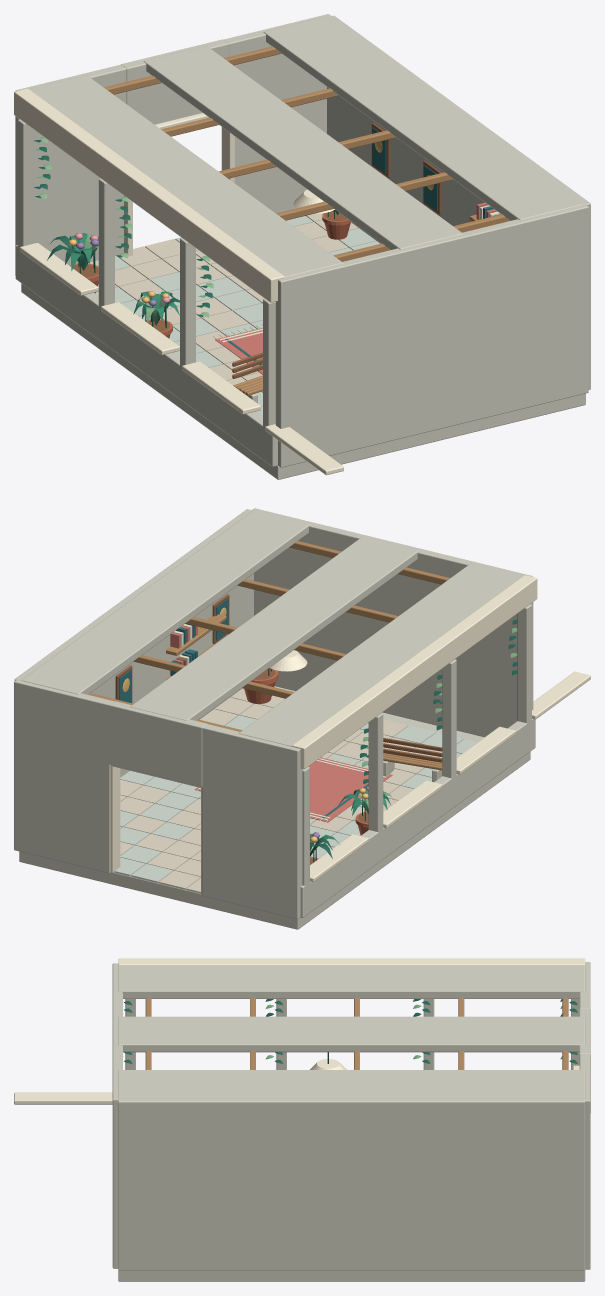
Rendered from office.glb.
The picture shows the model from 3 angles, top to bottom: view 1: azimuth 30°, elevation 25°; view 2: azimuth 150°, elevation 25°; view 3: azimuth 270°, elevation 25°; orthographic projection. The views are drawn at different scales.
Parts seen in each view (by area): view 1: office_architecture_limestone, office_architecture_ivory, office_paving_tile_warm, office_architecture_wood_light, office_paving_tile, office_foliage_leaf_dark, office_architecture_wood, office_detail_teal, office_paving_rug, office_foliage_leaf, office_foliage_leaf_light, office_detail_terracotta; view 2: office_architecture_limestone, office_architecture_ivory, office_paving_tile_warm, office_paving_tile, office_architecture_wood_light, office_paving_rug, office_architecture_wood, office_detail_teal, office_foliage_leaf_dark, office_detail_ivory, office_detail_terracotta; view 3: office_architecture_limestone, office_architecture_ivory, office_architecture_wood_light, office_foliage_leaf_dark.
Part boxes in pixels (box(x1,y1,x2,y2)): office_architecture_limestone: box(15, 14, 590, 479); office_architecture_ivory: box(14, 88, 343, 475); office_paving_tile_warm: box(115, 213, 358, 392); office_architecture_wood_light: box(104, 46, 509, 395); office_paving_tile: box(88, 216, 380, 415); office_foliage_leaf_dark: box(34, 140, 338, 327); office_architecture_wood: box(232, 123, 441, 378); office_detail_teal: box(372, 127, 500, 218); office_paving_rug: box(215, 327, 262, 374); office_foliage_leaf: box(69, 212, 338, 325); office_foliage_leaf_light: box(35, 137, 337, 325); office_detail_terracotta: box(70, 213, 351, 338); office_architecture_limestone: box(14, 508, 535, 929); office_architecture_ivory: box(110, 575, 590, 894); office_paving_tile_warm: box(120, 688, 442, 893); office_paving_tile: box(114, 715, 477, 882); office_architecture_wood_light: box(87, 541, 449, 770); office_paving_rug: box(194, 757, 392, 822); office_architecture_wood: box(115, 594, 442, 762); office_detail_teal: box(119, 598, 228, 702); office_foliage_leaf_dark: box(268, 620, 517, 862); office_detail_ivory: box(173, 624, 307, 671); office_detail_terracotta: box(244, 670, 368, 859); office_architecture_limestone: box(112, 962, 590, 1281); office_architecture_ivory: box(14, 958, 585, 1104); office_architecture_wood_light: box(145, 998, 568, 1069); office_foliage_leaf_dark: box(124, 999, 577, 1063).
Size of the model in its own units: 9.42 by 5.65 by 16.06.
